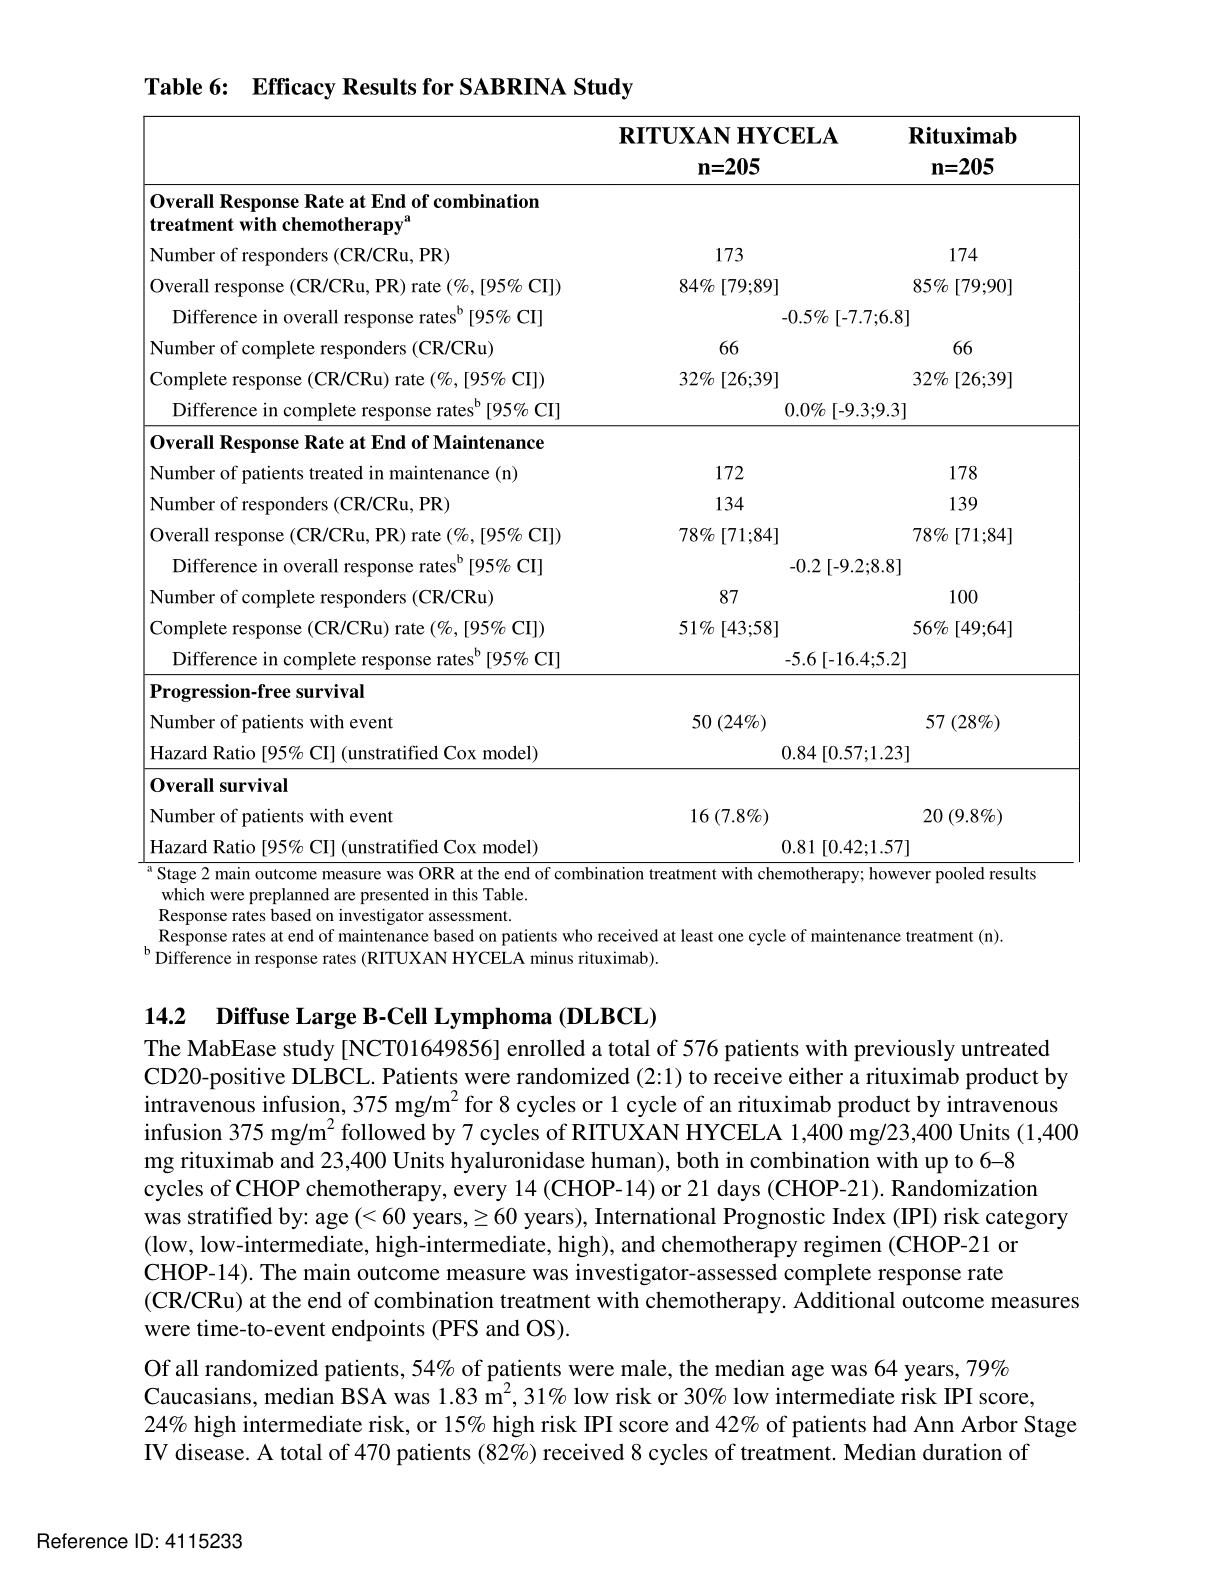partial_lined: (141, 114, 1084, 865)
